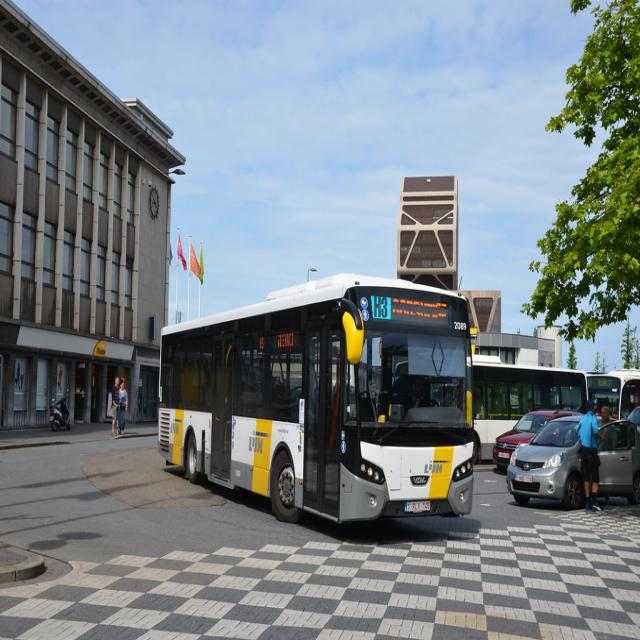bus-number: (371, 294, 391, 320)
